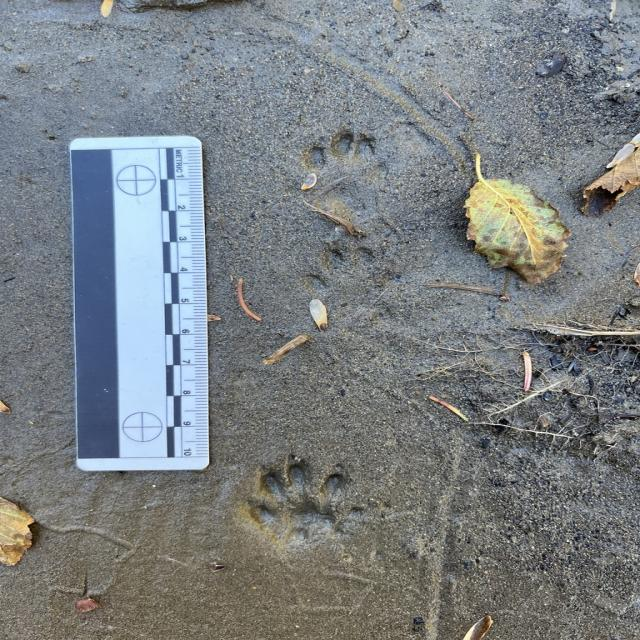mustelid: (249, 458, 347, 546), (311, 126, 392, 216), (310, 244, 400, 305)
